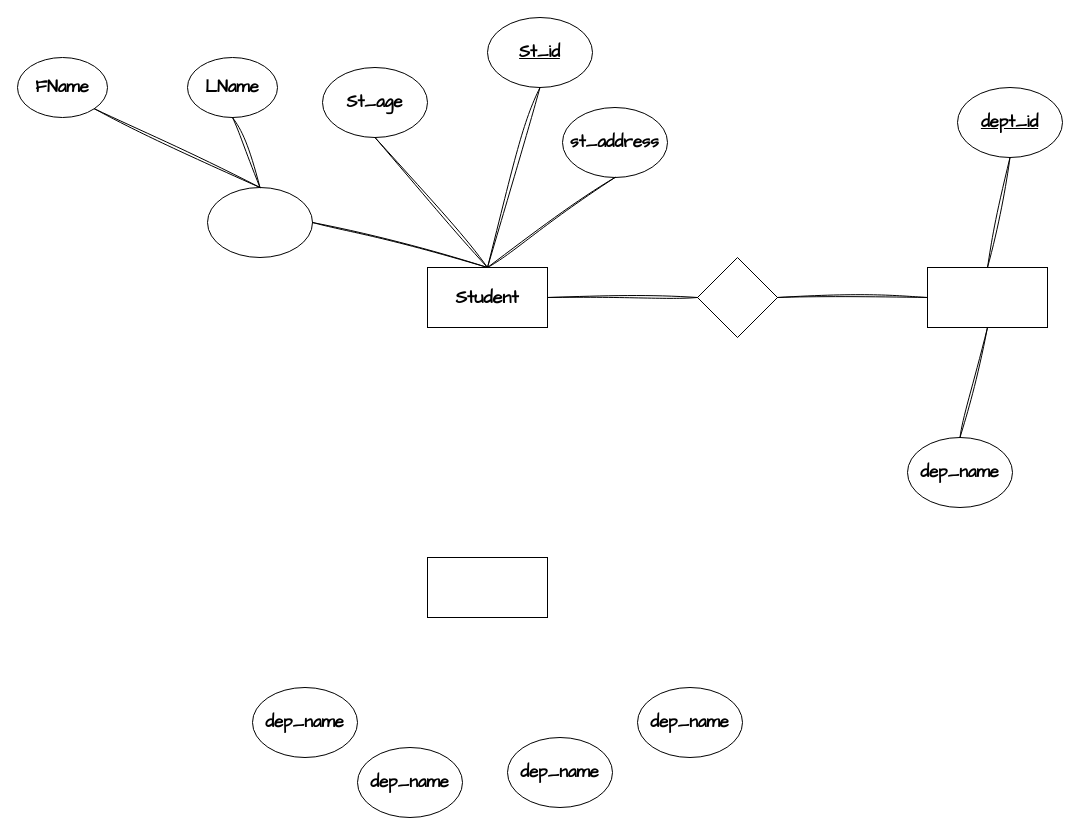
The diagram is 1080 pixels wide and 835 high, and some of its shapes have lost their labels. The centre of each missing label's shape, as x and y in pixels:
"Course" belongs at point (487, 587).
"Department" belongs at point (987, 297).
"in" belongs at point (737, 297).
"studentName" belongs at point (259, 222).
